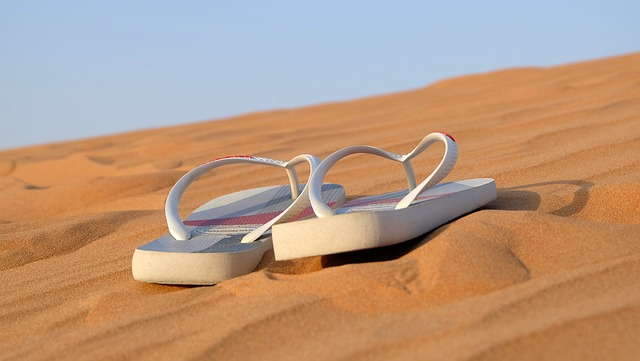Footwear: (127, 121, 498, 286)
